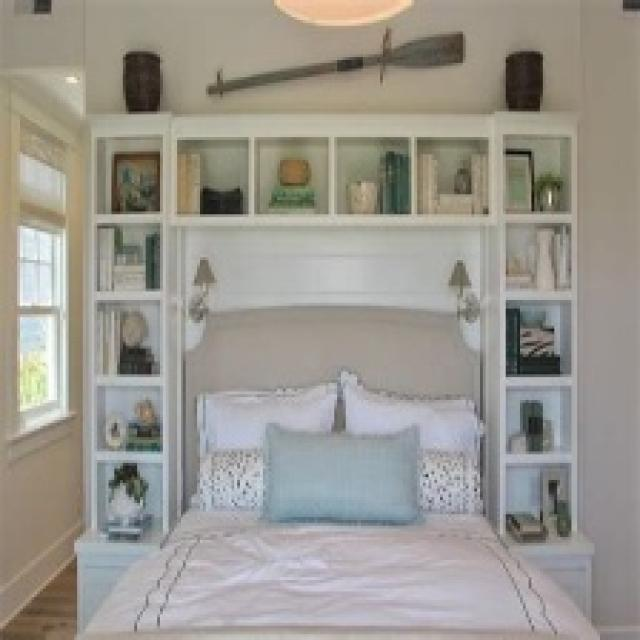Bed: (66, 300, 603, 637)
